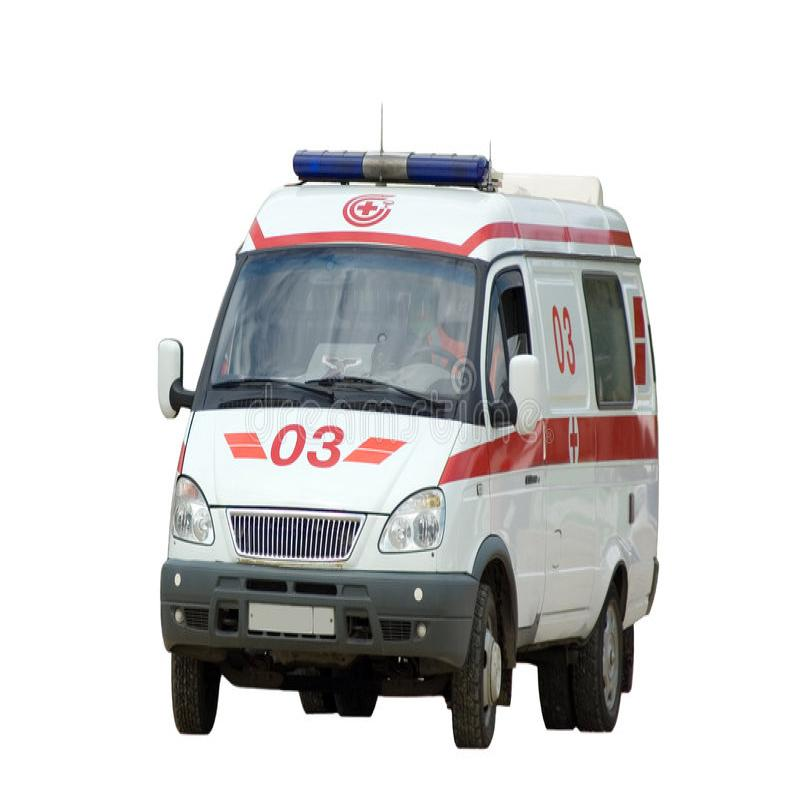AmbulanceSiren: (278, 122, 492, 204)
ambulance: (134, 118, 682, 755)
